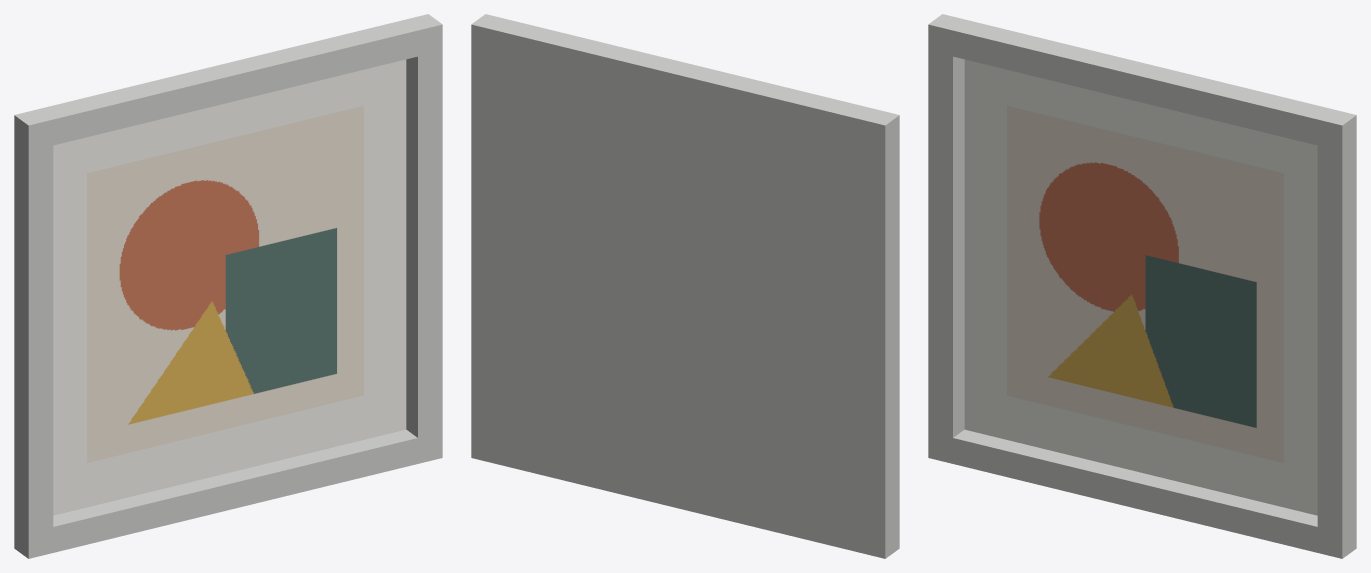
File: wallart_03.glb
The picture shows the model from 3 angles, left to right: view 1: azimuth 30°, elevation 25°; view 2: azimuth 150°, elevation 25°; view 3: azimuth 330°, elevation 25°; orthographic projection.
Visible parts, largest first — view 1: frame; view 2: frame; view 3: frame.
Boxes of the visible parts, x1,y1,x2,y2 form: frame: [14, 14, 442, 558]; frame: [471, 14, 899, 558]; frame: [928, 14, 1356, 558].
Size of the model in its own units: 0.5 by 0.5 by 0.03.
Materials: 3 (1 with a texture image).
